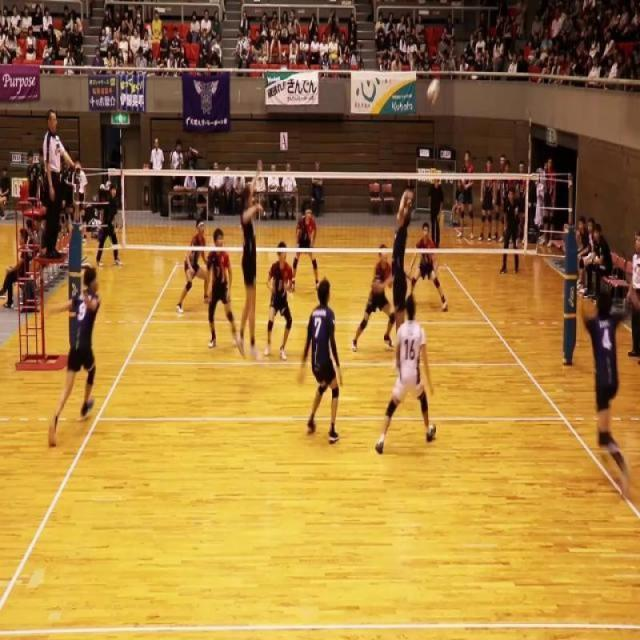volleyball: (426, 76, 441, 108)
